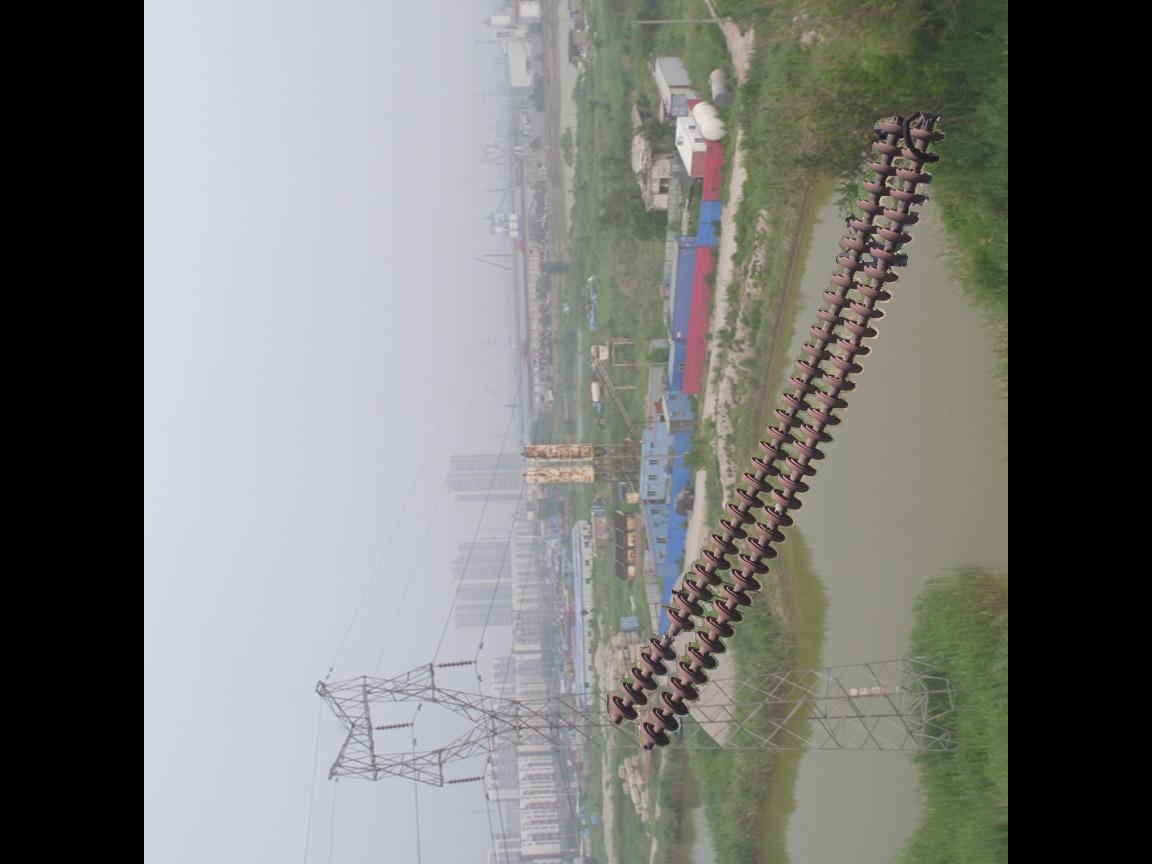insulator: (604, 115, 950, 755), (441, 771, 484, 789), (434, 657, 476, 673), (372, 718, 411, 734)
insulator_stringdrop: (645, 605, 698, 662)
